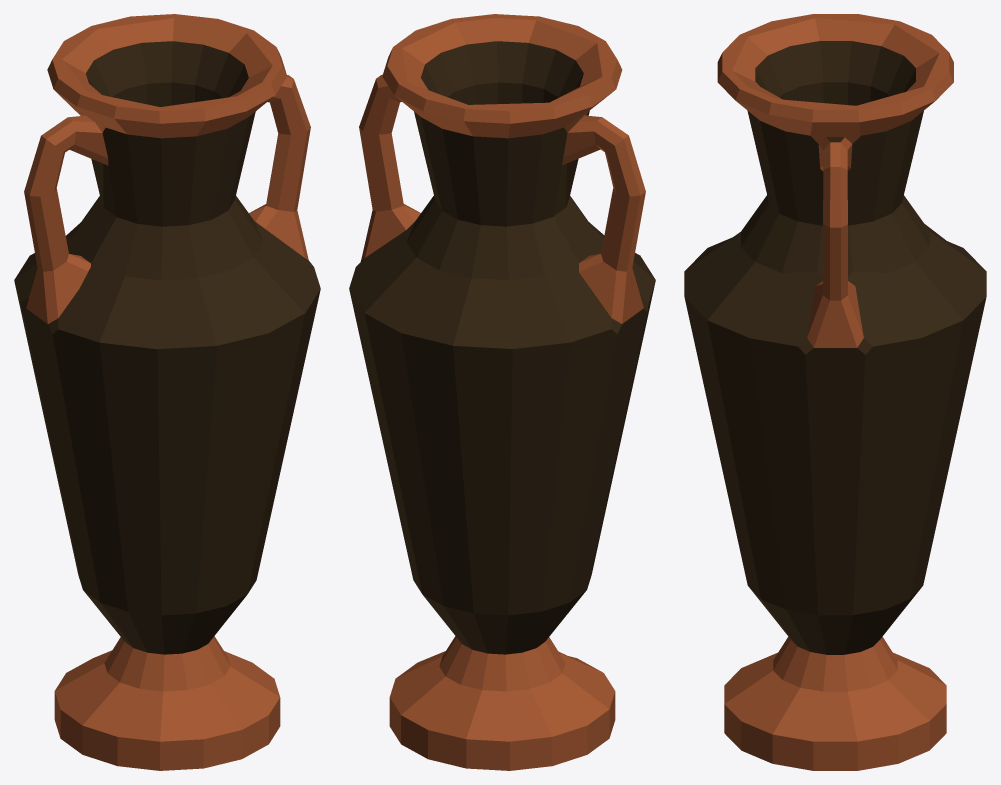
The model's file is greek_pot_1.fbx.
3 views of the same model, side by side, from view 1: azimuth 30°, elevation 25°; view 2: azimuth 150°, elevation 25°; view 3: azimuth 270°, elevation 25° (orthographic).
Visible parts, largest first — view 1: Cylinder.004; view 2: Cylinder.004; view 3: Cylinder.004.
Part boxes in pixels (x1,y1,x2,y2): Cylinder.004: (14, 14, 320, 770); Cylinder.004: (349, 14, 655, 770); Cylinder.004: (684, 14, 986, 770).
Size of the model in its own units: 40.26 by 90.31 by 37.35.
